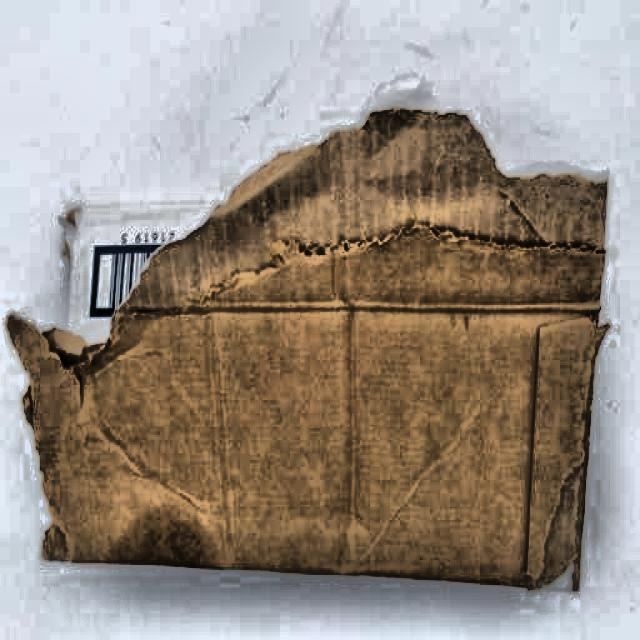cardboard: (23, 87, 608, 594)
